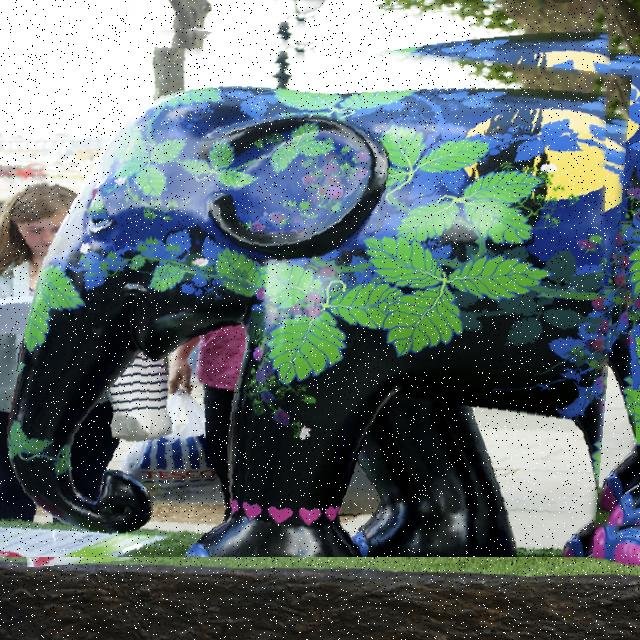elephant: (0, 10, 632, 557)
